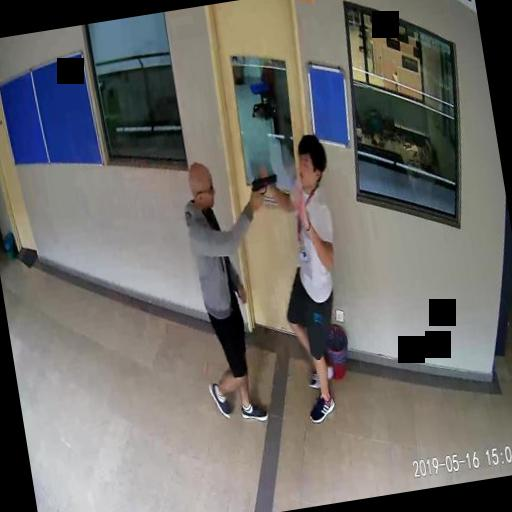Handgun: (248, 171, 278, 204)
